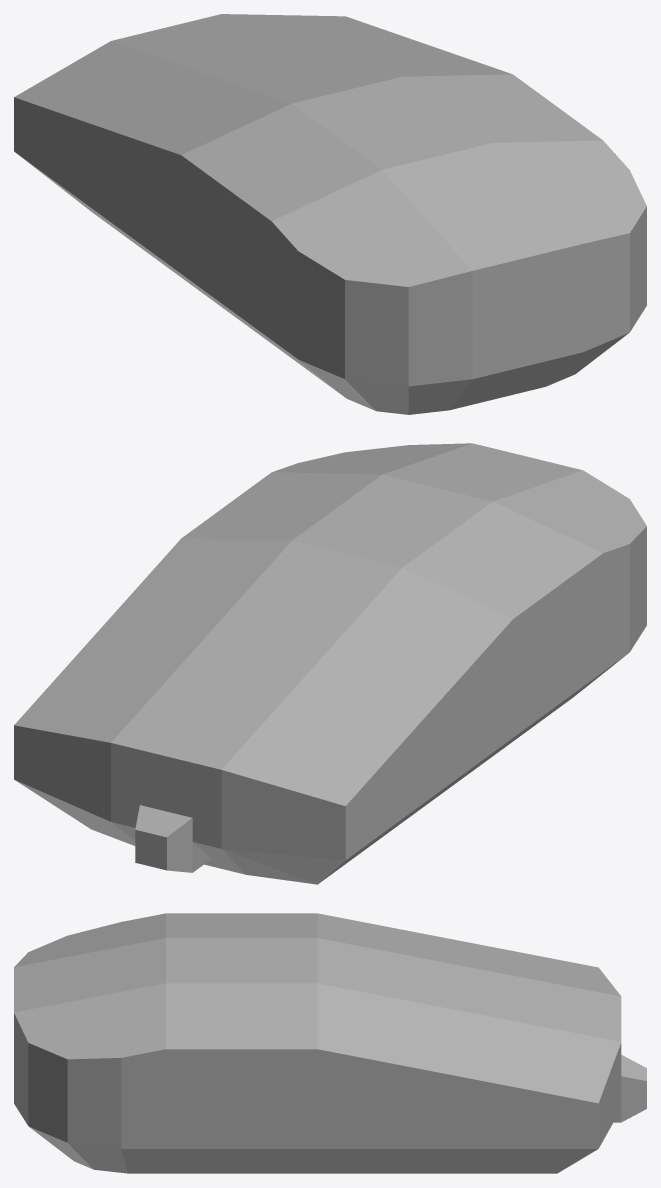
File: PC_Mouse.fbx
3 views of the same model, one above another, from view 1: azimuth 30°, elevation 25°; view 2: azimuth 150°, elevation 25°; view 3: azimuth 270°, elevation 25° (orthographic). The views are drawn at different scales.
Parts seen in each view (by area): view 1: PC_Mouse; view 2: PC_Mouse; view 3: PC_Mouse.
Part boxes in pixels (x1,y1,x2,y2): PC_Mouse: [14, 14, 646, 414]; PC_Mouse: [14, 443, 646, 884]; PC_Mouse: [14, 913, 646, 1173].
Size of the model in its own units: 8.82 by 5.04 by 17.36.
